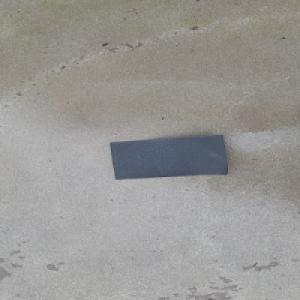PaintChip: (109, 133, 229, 179)
